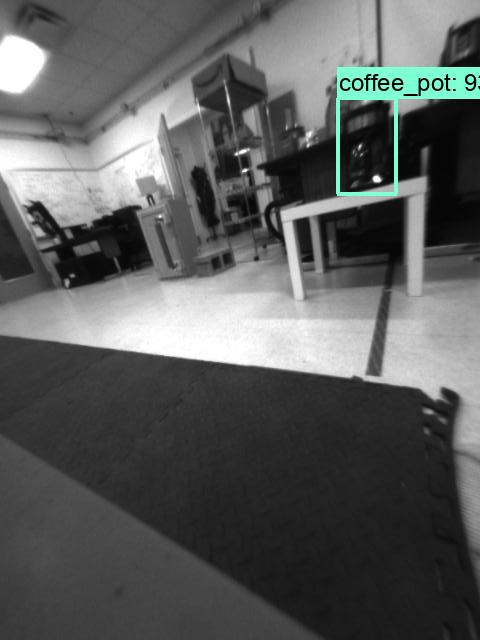coffee_pot: (334, 102, 398, 193)
